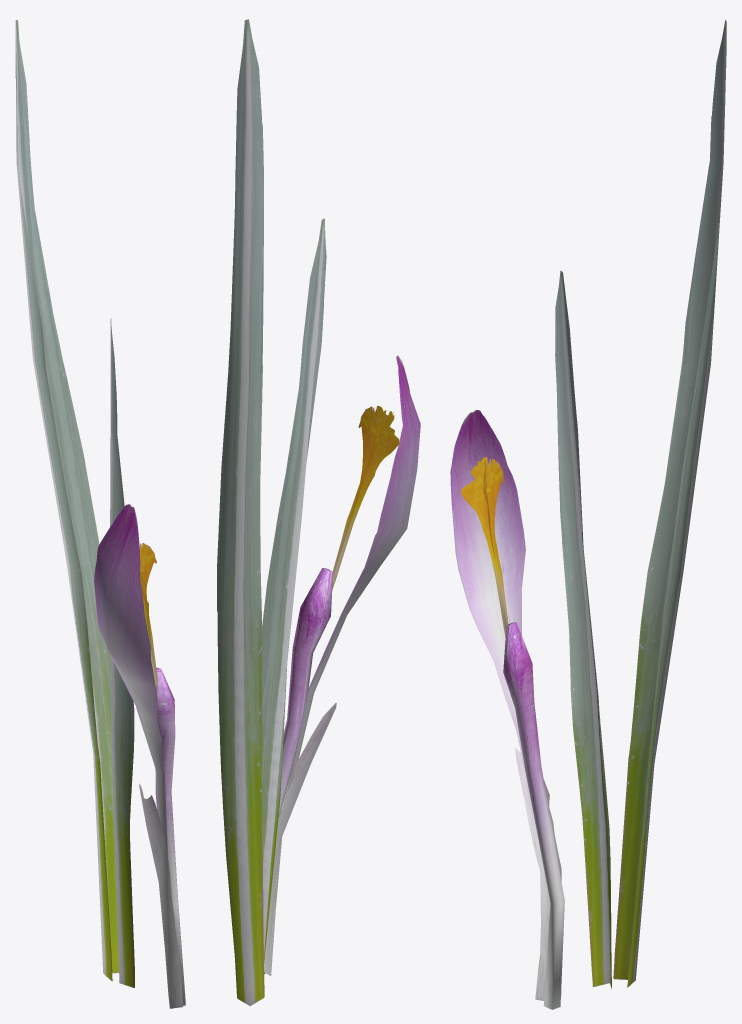
File: flower_crocus_shadow.glb
3 views of the same model, side by side, from view 1: azimuth 30°, elevation 25°; view 2: azimuth 150°, elevation 25°; view 3: azimuth 270°, elevation 25° (orthographic). The views are drawn at different scales.
Visible parts, largest first — view 1: bq_Flower_Crocus-vernus_B_spring-summer; view 2: bq_Flower_Crocus-vernus_B_spring-summer; view 3: bq_Flower_Crocus-vernus_B_spring-summer.
Boxes of the visible parts, x1=… form: bq_Flower_Crocus-vernus_B_spring-summer: x1=15, y1=20, x2=185, y2=1008; bq_Flower_Crocus-vernus_B_spring-summer: x1=217, y1=19, x2=420, y2=1006; bq_Flower_Crocus-vernus_B_spring-summer: x1=450, y1=20, x2=726, y2=1009.
Bounding box in the file's own units: 0.0167 × 0.1307 × 0.0345.
2 materials, 2 textured.
